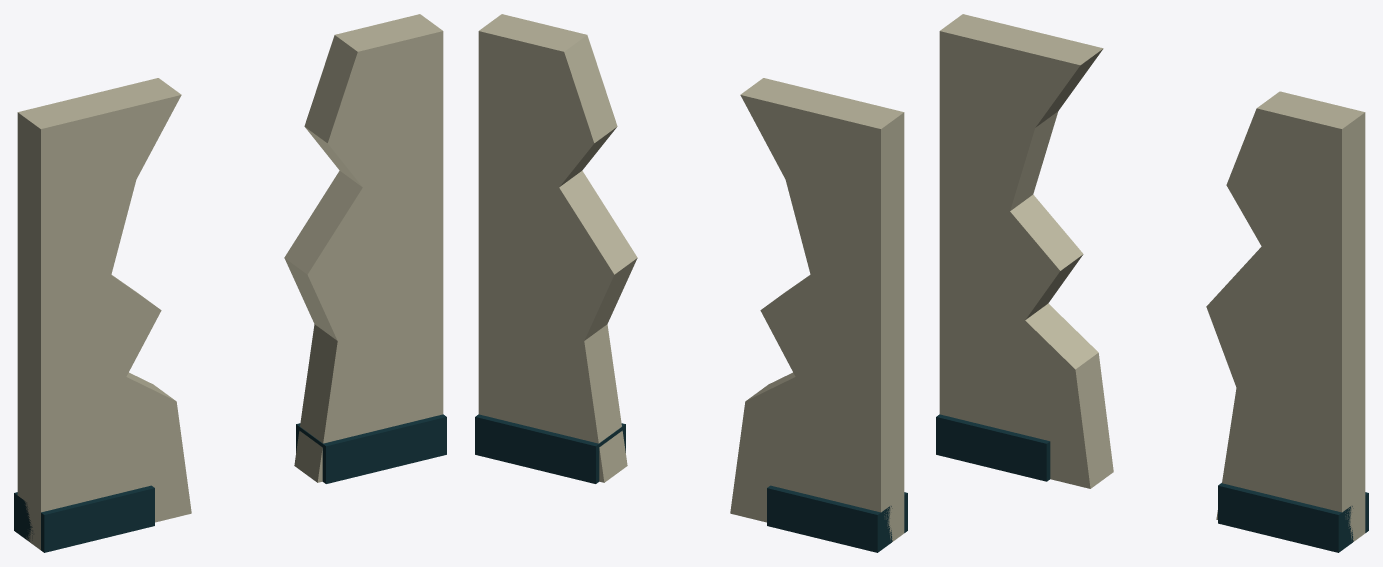
File: WP_A08_wall_breached_v02.glb
3 renders of one model, left to right at view 1: azimuth 30°, elevation 25°; view 2: azimuth 150°, elevation 25°; view 3: azimuth 330°, elevation 25°, orthographic.
Visible parts, largest first — view 1: BrokenWall; view 2: BrokenWall; view 3: BrokenWall.
Boxes of the visible parts, left/top/right/bottom form: BrokenWall: left=14, top=14, right=446, bottom=552; BrokenWall: left=475, top=14, right=907, bottom=552; BrokenWall: left=936, top=14, right=1368, bottom=552.
Size of the model in its own units: 4 by 4 by 0.52.
